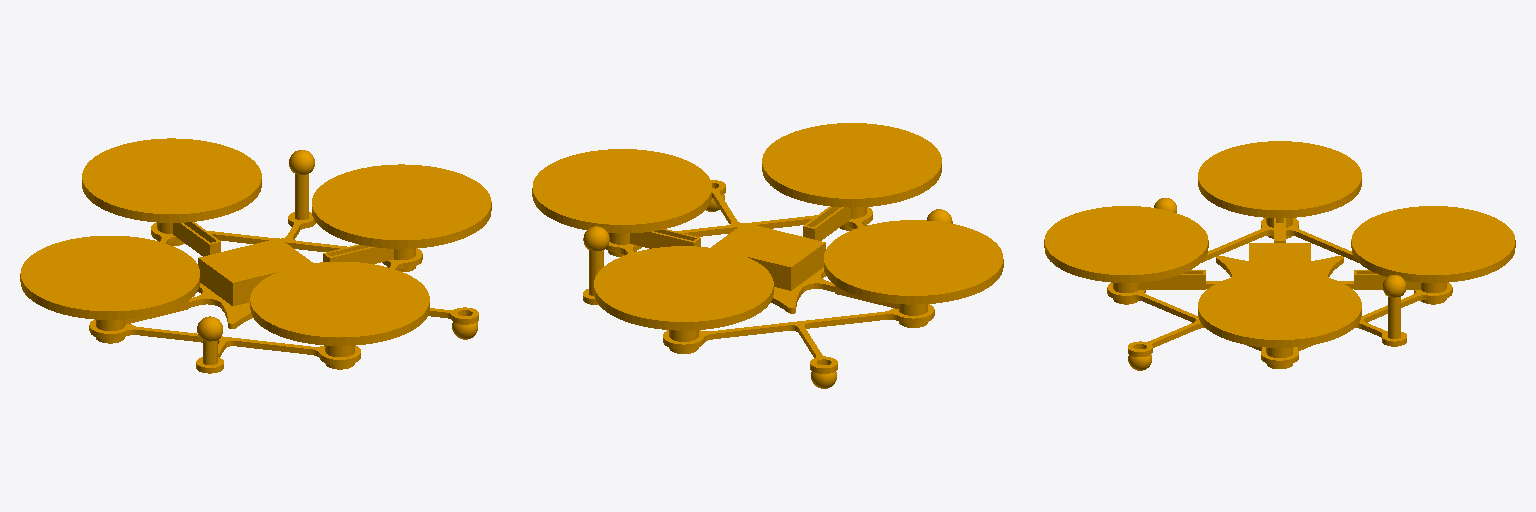
URDF robot description (crazyflie1):
<?xml version="1.0" ?>
<robot xmlns="http://drake.mit.edu"
 xmlns:xsi="http://www.w3.org/2001/XMLSchema-instance"
 name="crazyflie1">
  <link name="base_link">
    <inertial>
      <mass value="0.0234"/>
      <origin xyz="0 0 0"/>
      <!--First run of sys id:--> <inertia ixx="5.6E-6" ixy="0" ixz="0" iyy="6.2E-6" iyz="0" izz="24.6E-6"/>
      <!--Second run of sys id: <inertia ixx="9.74E-6" ixy="0" ixz="0" iyy="10.02E-6" iyz="0" izz="0.02E-6"/>-->
      <!--Guess that just works well: <inertia ixx="5E-5" ixy="0" ixz="0" iyy="5E-5" iyz="0" izz="10E-5"/>-->
      <!--Solidworks: <inertia ixx="1.5474291e-006" ixy="1.300365e-008" ixz="3.2996326e-008" iyy="1.5474291e-006" iyz="3.2996326e-008" izz="3.0743992e-006"/>-->
    </inertial>
    <visual>
      <origin rpy="0 0 0" xyz="0 0 0"/>
      <geometry>
        <mesh filename="mesh/crazyflie.obj" scale=".001"/>
      </geometry>
    </visual>
  </link>
  <force_element name="prop1">
    <propellor lower_limit="1.461452111054914" upper_limit="59.427221477149608" scale_factor_thrust="0.001826420485436" scale_factor_moment="-2.7E-7" visual_geometry="false">
      <parent link="base_link"/>
      <origin xyz="0.043 0 0"/>
      <axis xyz="0 0 1"/>
    </propellor>
  </force_element>
  <force_element name="prop2">
    <propellor lower_limit="1.461452111054914" upper_limit="59.427221477149608" scale_factor_thrust="0.001826420485436" scale_factor_moment="2.7E-7" visual_geometry="false">
      <parent link="base_link"/>
      <origin xyz="0 -0.043 0"/>
      <axis xyz="0 0 1"/>
    </propellor>
  </force_element>
  <force_element name="prop3">
    <propellor lower_limit="1.461452111054914" upper_limit="59.427221477149608" scale_factor_thrust="0.001826420485436" scale_factor_moment="-2.7E-7" visual_geometry="false">
      <parent link="base_link"/>
      <origin xyz="-0.043 0 0"/>
      <axis xyz="0 0 1"/>
    </propellor>
  </force_element>
  <force_element name="prop4">
    <propellor lower_limit="1.461452111054914" upper_limit="59.427221477149608" scale_factor_thrust="0.001826420485436" scale_factor_moment="2.7E-7" visual_geometry="false">
      <parent link="base_link"/>
      <origin xyz="0 0.043 0"/>
      <axis xyz="0 0 1"/>
    </propellor>
  </force_element>
</robot>

--- Render facts (derived) ---
The picture shows the robot from 3 angles, left to right: view 1: azimuth 30°, elevation 25°; view 2: azimuth 150°, elevation 25°; view 3: azimuth 270°, elevation 25°; orthographic projection.
Model crazyflie1 with 1 links and 0 joints (none), rooted at base_link, posed every joint at zero.
Visible links, largest first — view 1: base_link; view 2: base_link; view 3: base_link.
Link boxes in pixels (bbox=[...]): base_link: bbox=[20, 138, 491, 373]; base_link: bbox=[532, 123, 1003, 388]; base_link: bbox=[1044, 141, 1515, 370].
Bounding box of the posed robot: 0.1321 × 0.1321 × 0.0258 m (x, y, z).
1 mesh visuals loaded from 1 distinct referenced files (1 OBJ).